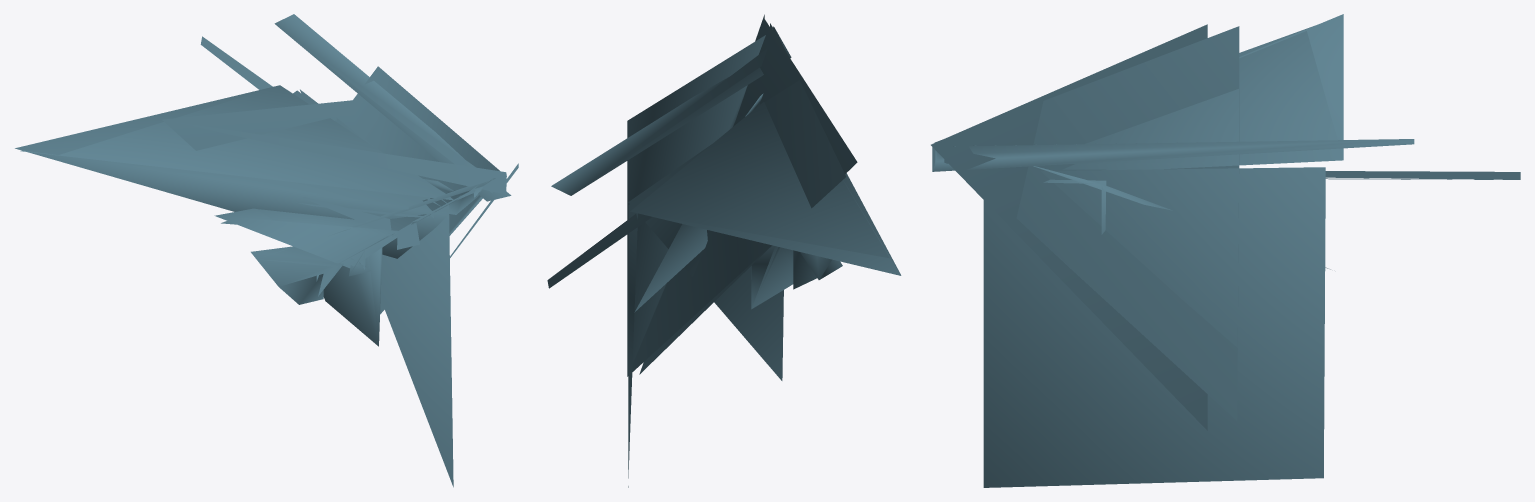
3 views of the same model, side by side, from view 1: azimuth 30°, elevation 25°; view 2: azimuth 150°, elevation 25°; view 3: azimuth 270°, elevation 25° (orthographic). The views are drawn at different scales.
Parts seen in each view (by area): view 1: Armchair; view 2: Armchair; view 3: Armchair.
Boxes of the visible parts, <box> form: Armchair: <box>15,14,518,487</box>; Armchair: <box>547,14,901,487</box>; Armchair: <box>931,14,1520,487</box>.
Bounding box in the file's own units: 2.93e-45 × 2.91e-45 × 4.2e-45.
1 material, 1 textured.
